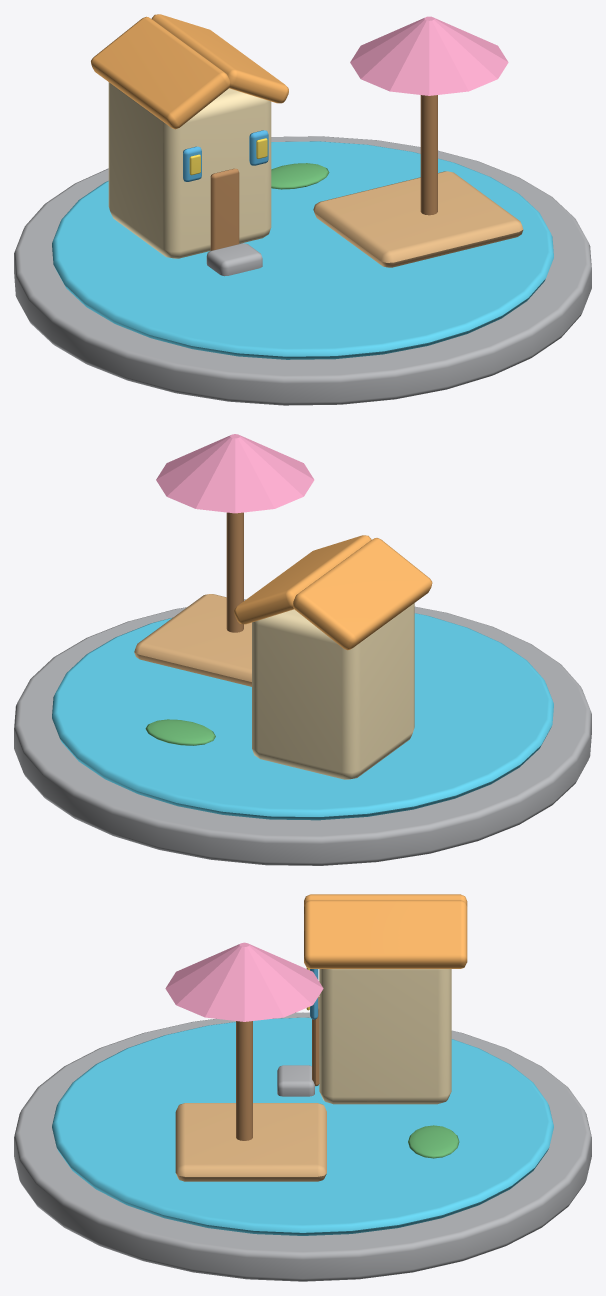
The model's file is region_resort.glb.
3 renders of one model, top to bottom at view 1: azimuth 30°, elevation 25°; view 2: azimuth 150°, elevation 25°; view 3: azimuth 270°, elevation 25°, orthographic.
Parts seen in each view (by area): view 1: bright lake, lake shore, rounded plaster walls, resort deck, Cone, overlapping roof tiles, overlapping roof tiles.001, arched entry, resort parasol, stone threshold, lily pad; view 2: bright lake, lake shore, rounded plaster walls, Cone, overlapping roof tiles, resort deck, overlapping roof tiles.001, resort parasol, lily pad; view 3: bright lake, lake shore, rounded plaster walls, resort deck, overlapping roof tiles.001, Cone, resort parasol, lily pad, stone threshold, overlapping roof tiles, arched entry.
Boxes of the visible parts, x1=… form: bright lake: x1=52, y1=141, x2=553, y2=359; lake shore: x1=14, y1=136, x2=591, y2=405; rounded plaster walls: x1=108, y1=82, x2=271, y2=258; resort deck: x1=313, y1=171, x2=523, y2=267; Cone: x1=350, y1=16, x2=508, y2=95; overlapping roof tiles: x1=91, y1=16, x2=229, y2=129; overlapping roof tiles.001: x1=151, y1=14, x2=288, y2=103; arched entry: x1=210, y1=168, x2=239, y2=250; resort parasol: x1=420, y1=95, x2=437, y2=215; stone threshold: x1=206, y1=243, x2=262, y2=276; lily pad: x1=271, y1=163, x2=329, y2=189; bright lake: x1=52, y1=613, x2=553, y2=820; lake shore: x1=14, y1=599, x2=591, y2=865; rounded plaster walls: x1=252, y1=603, x2=414, y2=779; Cone: x1=156, y1=434, x2=314, y2=513; overlapping roof tiles: x1=293, y1=538, x2=432, y2=650; resort deck: x1=134, y1=594, x2=251, y2=686; overlapping roof tiles.001: x1=234, y1=535, x2=371, y2=624; resort parasol: x1=226, y1=512, x2=243, y2=632; lily pad: x1=145, y1=719, x2=215, y2=745; bright lake: x1=52, y1=1017, x2=553, y2=1235; lake shore: x1=14, y1=1012, x2=591, y2=1281; rounded plaster walls: x1=319, y1=969, x2=451, y2=1104; resort deck: x1=175, y1=1103, x2=326, y2=1181; overlapping roof tiles.001: x1=304, y1=900, x2=467, y2=968; Cone: x1=165, y1=942, x2=323, y2=1021; resort parasol: x1=236, y1=1021, x2=252, y2=1140; lily pad: x1=408, y1=1125, x2=459, y2=1158; stone threshold: x1=277, y1=1065, x2=314, y2=1096; overlapping roof tiles: x1=304, y1=894, x2=467, y2=906; arched entry: x1=312, y1=996, x2=319, y2=1086.
Bounding box in the file's own units: 3.36 × 1.7 × 3.36.
